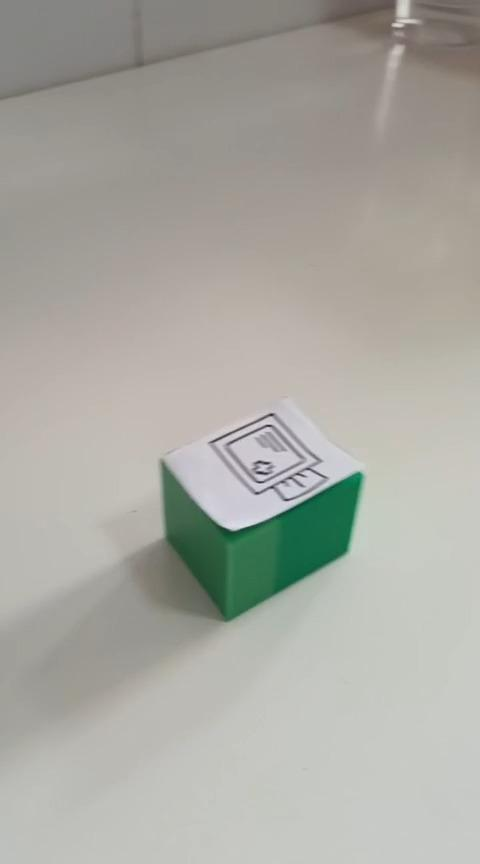Gauze: (158, 395, 366, 621)
